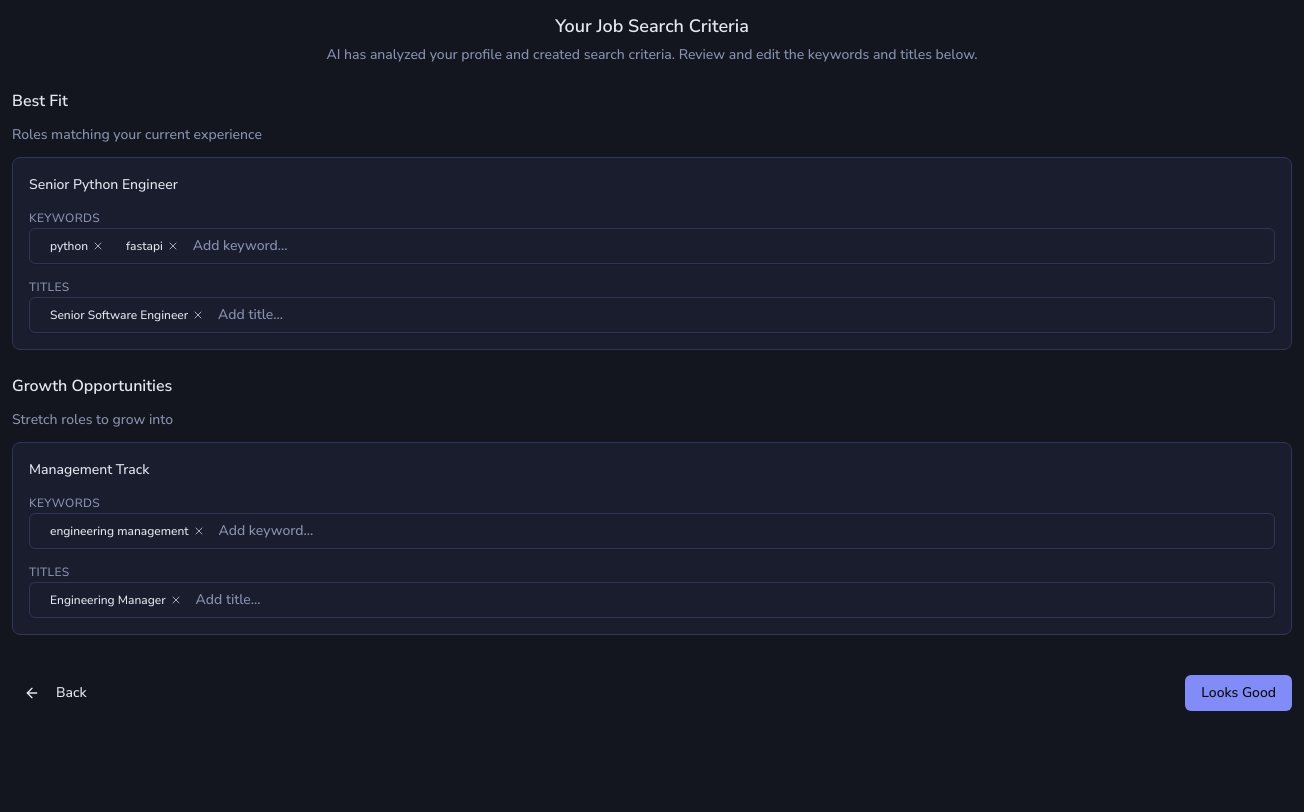
SearchCriteriaStep › tag editing › adds a keyword tag on Enter
Expected: the button with test id "approve-button" is shown, [1185,675,1292,711]
In the field with placeholder "Add keyword..." next to "fastapi": (727, 246) [193,236,1262,256], type "django"
Then press Enter
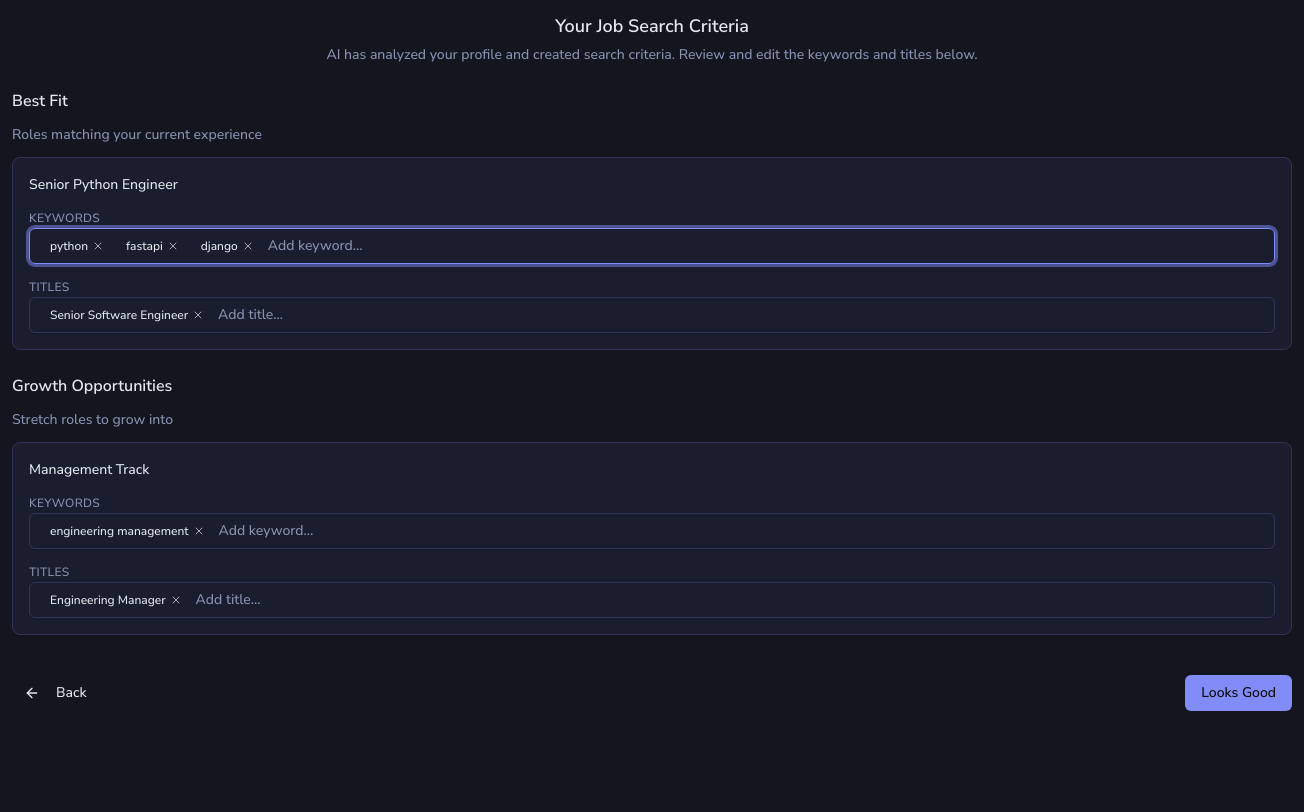
Now the text "django" is shown, box [193,236,262,256]
